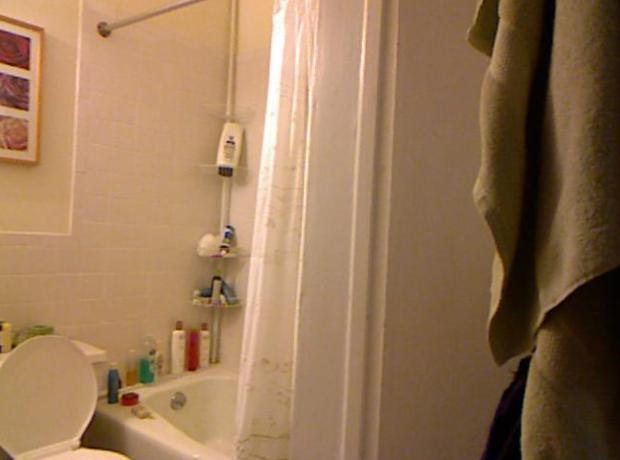Sanitario: (5, 341, 133, 457)
